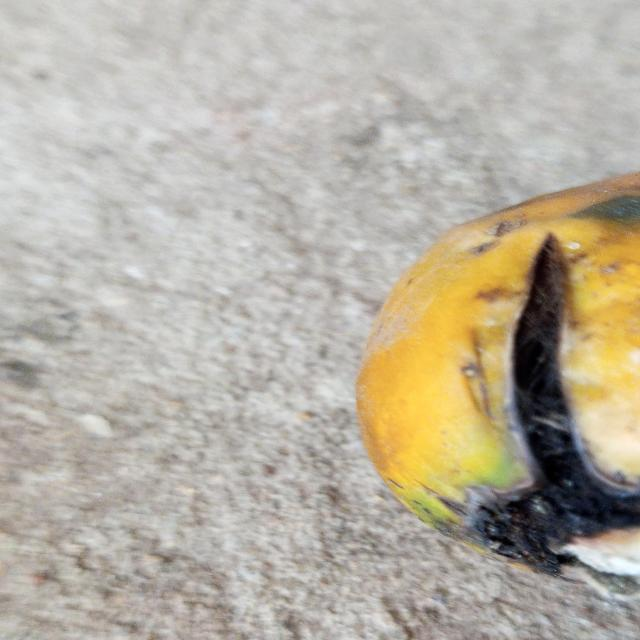damaged: (354, 170, 640, 578)
